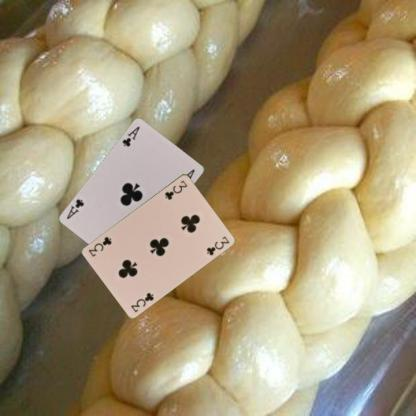3c: (162, 177, 188, 201), (128, 290, 155, 313)
Ac: (120, 124, 141, 148)
